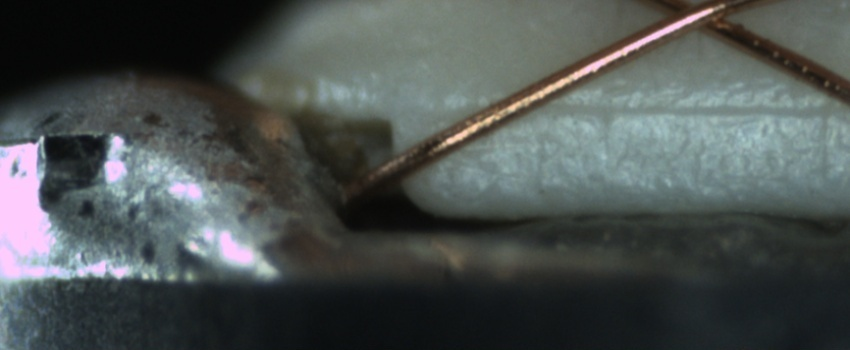CL: (637, 0, 752, 40)
DL: (454, 76, 849, 146)
